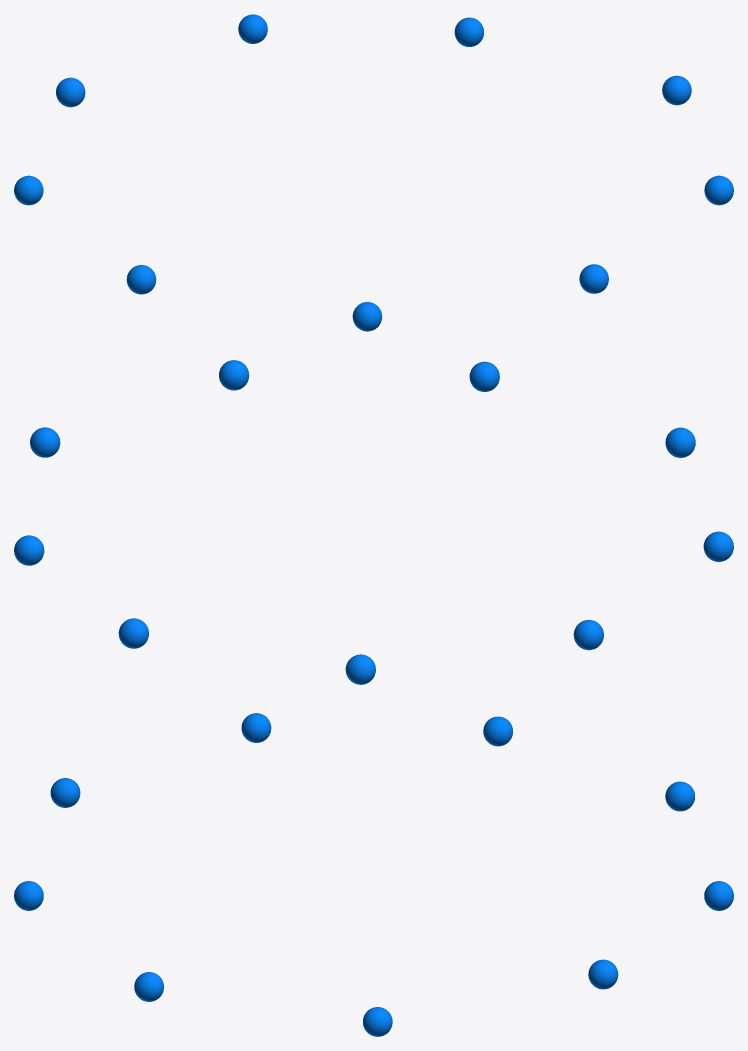
3 views of the same model, one above another, from view 1: azimuth 30°, elevation 25°; view 2: azimuth 150°, elevation 25°; view 3: azimuth 270°, elevation 25° (orthographic). The views are drawn at different scales.
Parts seen in each view (by area): view 1: Sphere052; view 2: Sphere052; view 3: Sphere052.
Part boxes in pixels (bbox=[...]): Sphere052: bbox=[14, 14, 733, 331]; Sphere052: bbox=[14, 360, 733, 684]; Sphere052: bbox=[14, 713, 733, 1036].
Bounding box in the file's own units: 199 × 8.22 × 198.
